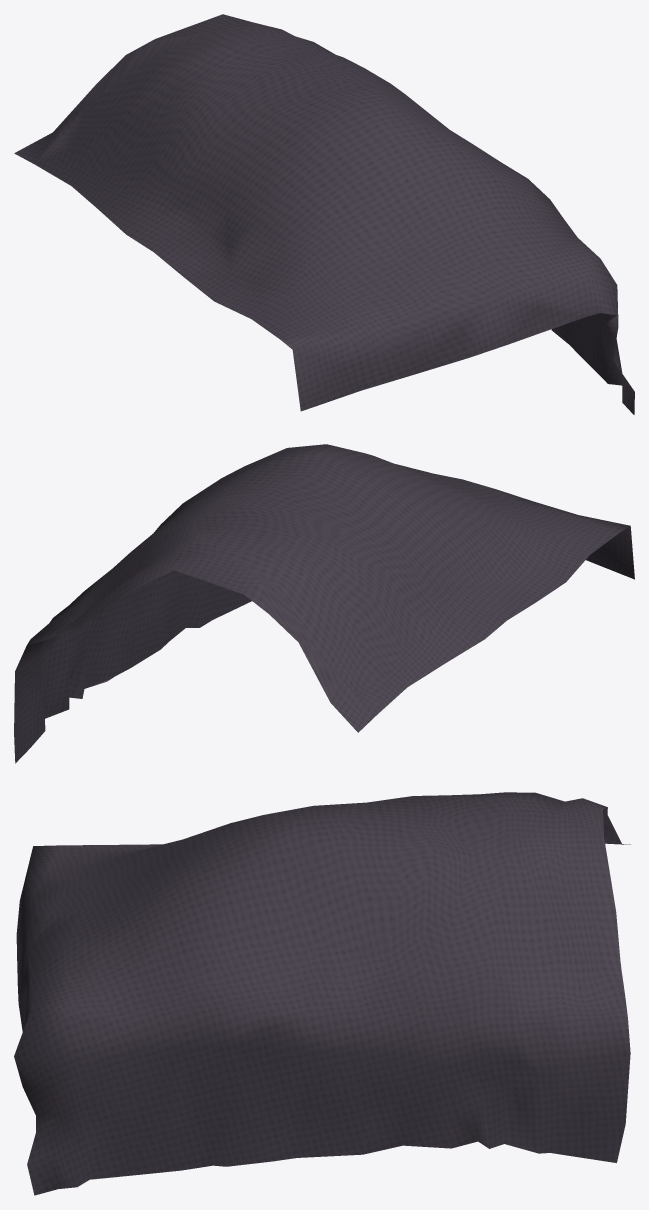
File: SM_prop_Laboratory_Bed_edit_Prolog.fbx
3 views of the same model, one above another, from view 1: azimuth 30°, elevation 25°; view 2: azimuth 150°, elevation 25°; view 3: azimuth 270°, elevation 25° (orthographic). The views are drawn at different scales.
Visible parts, largest first — view 1: SM_prop_Laboratory_Blenket_low; view 2: SM_prop_Laboratory_Blenket_low; view 3: SM_prop_Laboratory_Blenket_low.
Boxes of the visible parts, bbox=[...] form: SM_prop_Laboratory_Blenket_low: bbox=[14, 14, 634, 414]; SM_prop_Laboratory_Blenket_low: bbox=[14, 444, 634, 763]; SM_prop_Laboratory_Blenket_low: bbox=[14, 792, 630, 1195].
Bounding box in the file's own units: 111 × 76.03 × 148.
1 material, 1 textured.
